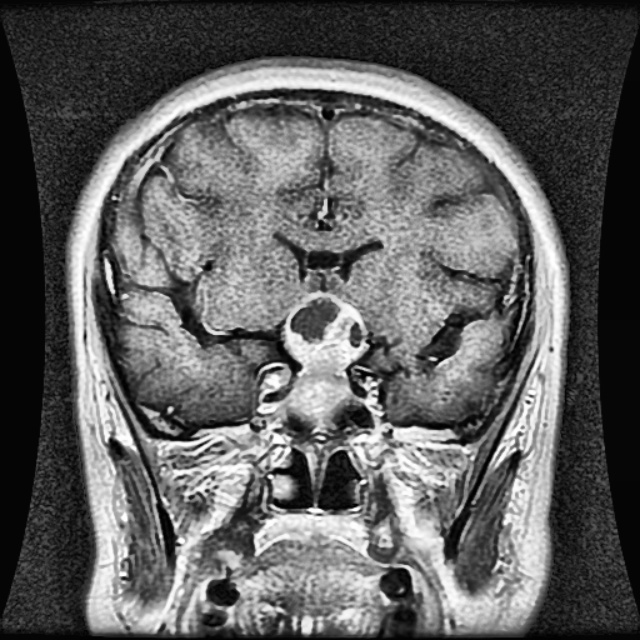Pituitary: (283, 289, 365, 415)
